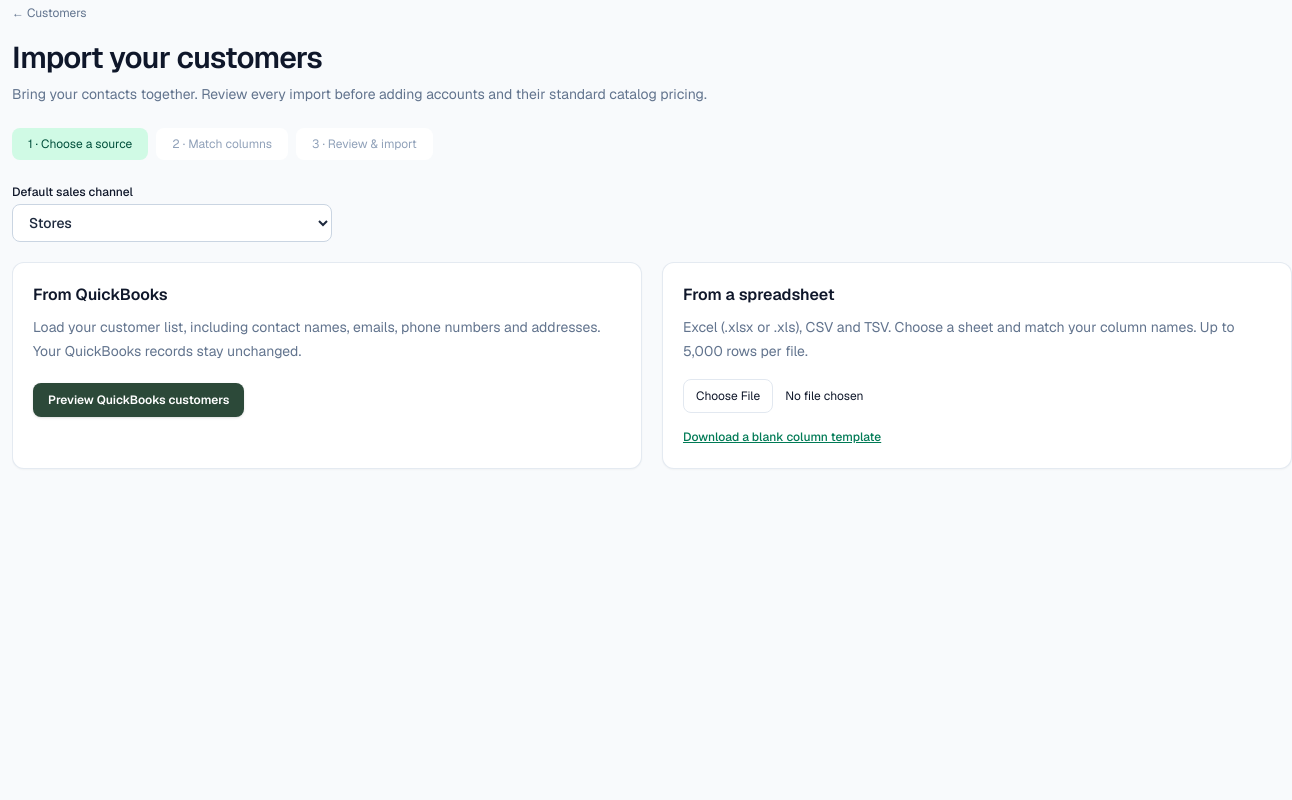
Test: requires review and imports only selected QuickBooks contacts
Click the button "Preview QuickBooks customers".
click(139, 400)  # box 33,383 -> 244,417
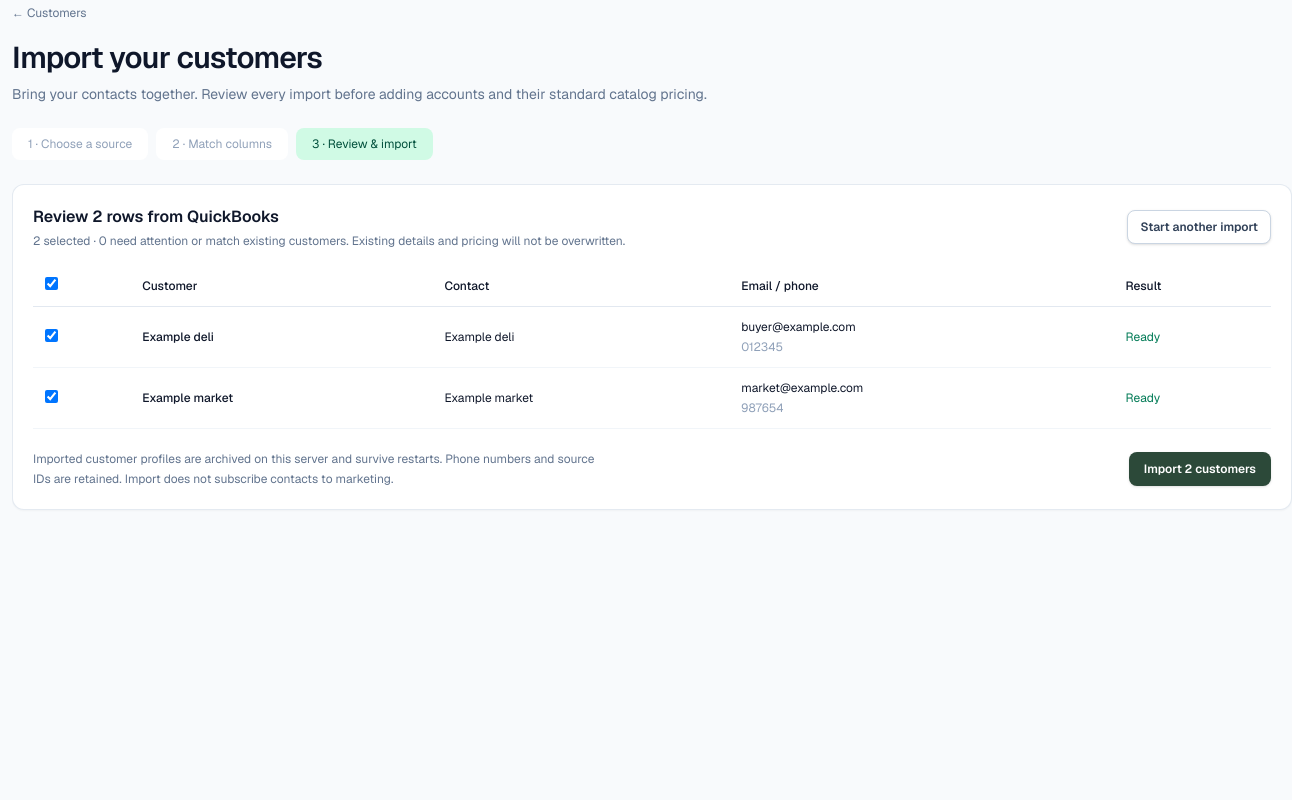
Result: the checkbox named "Import row 2" is shown at 45,328 -> 58,342
Click the checkbox named "Import row 3".
click(52, 396)  # box 45,390 -> 58,402
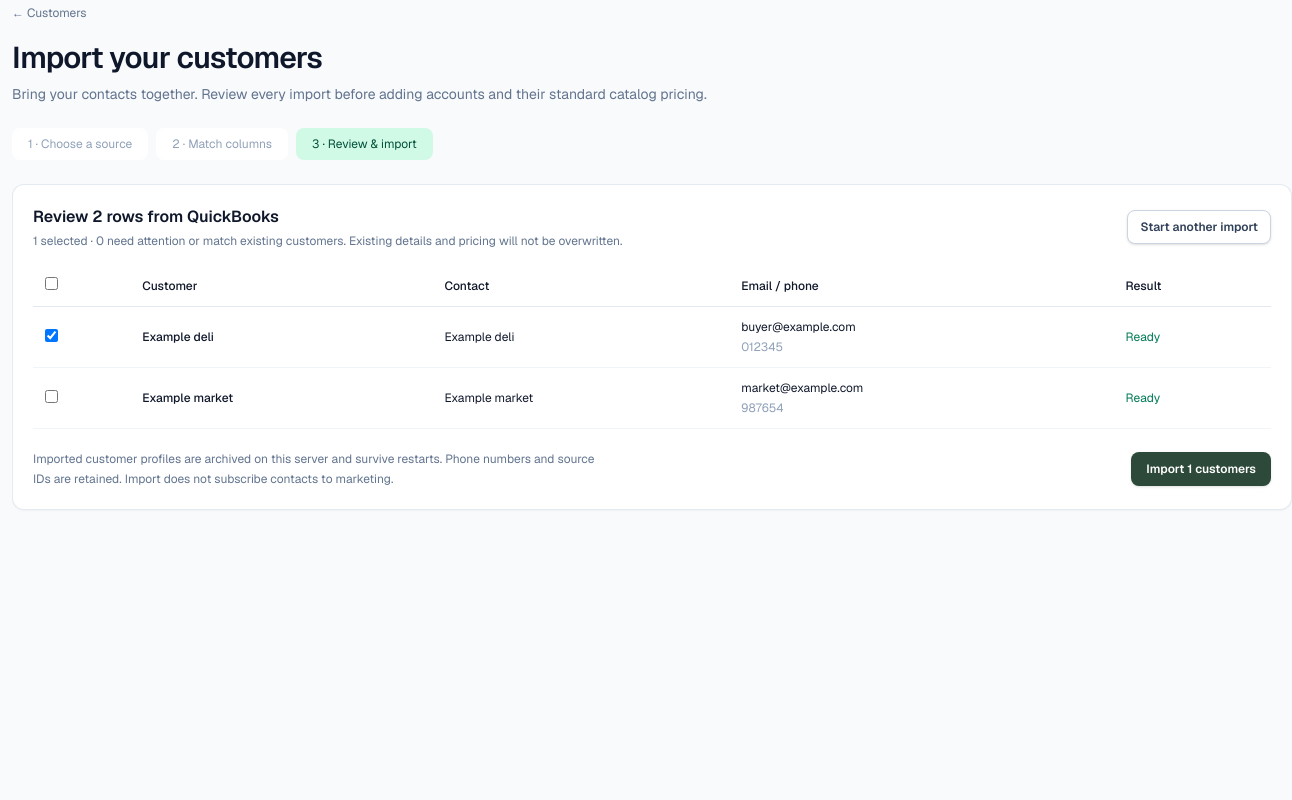
Click the button "Import 1 customers".
click(1201, 469)  # box 1131,452 -> 1271,486
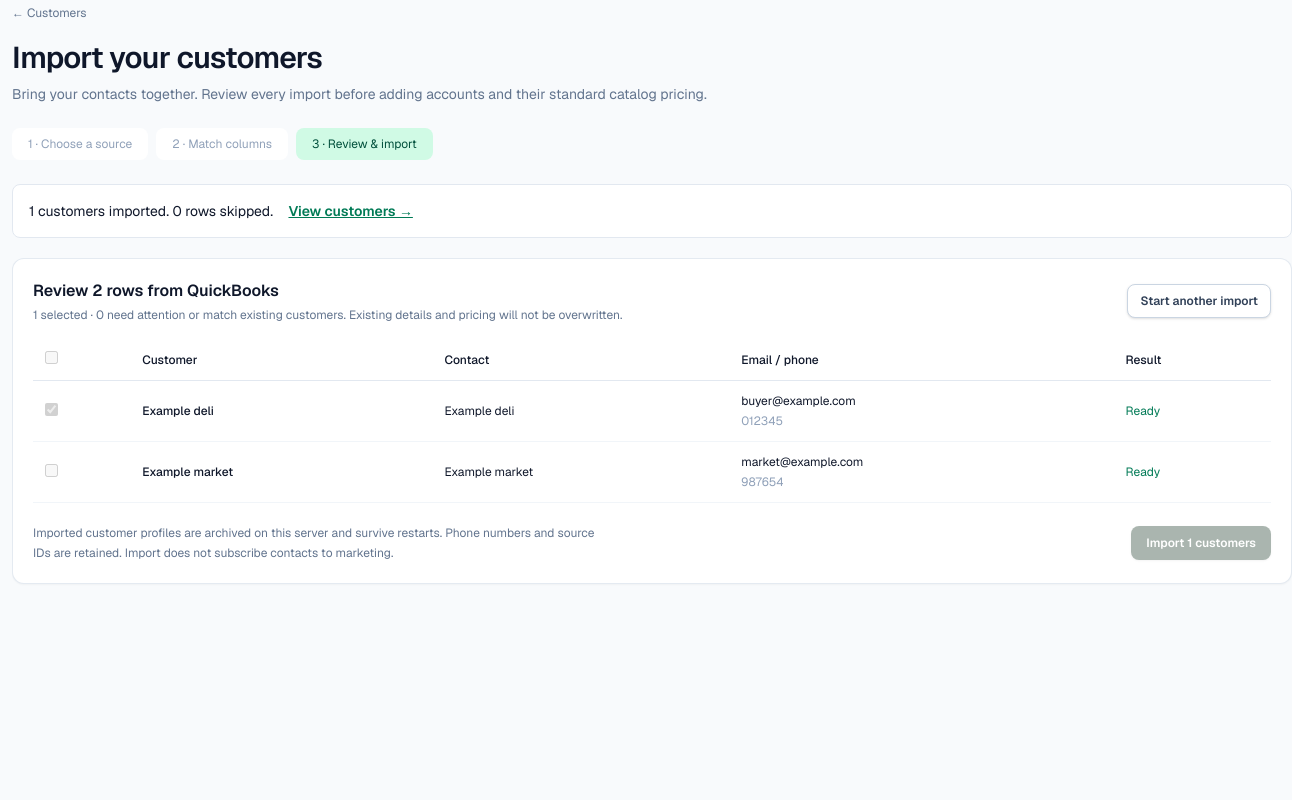
Result: the text "1 customers imported. 0 rows skipped. View customers →" is shown at 12,184 -> 1291,238
